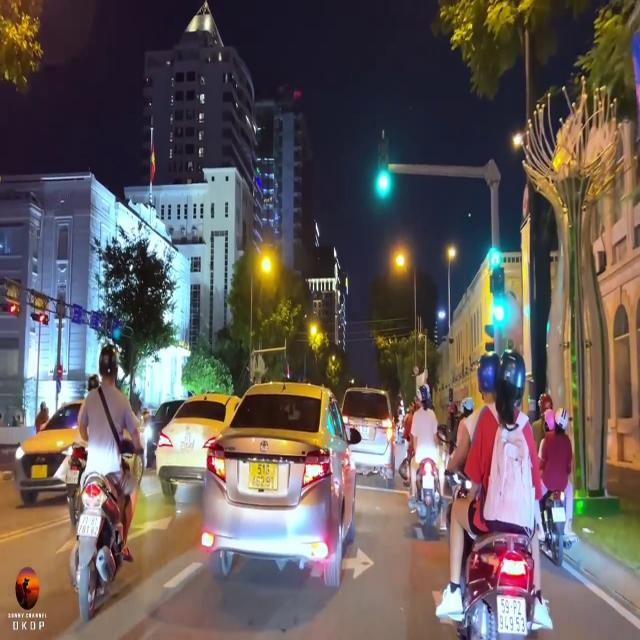bien_trang: (496, 596, 528, 634), (76, 514, 100, 537)
bien_vang: (248, 461, 278, 491)
